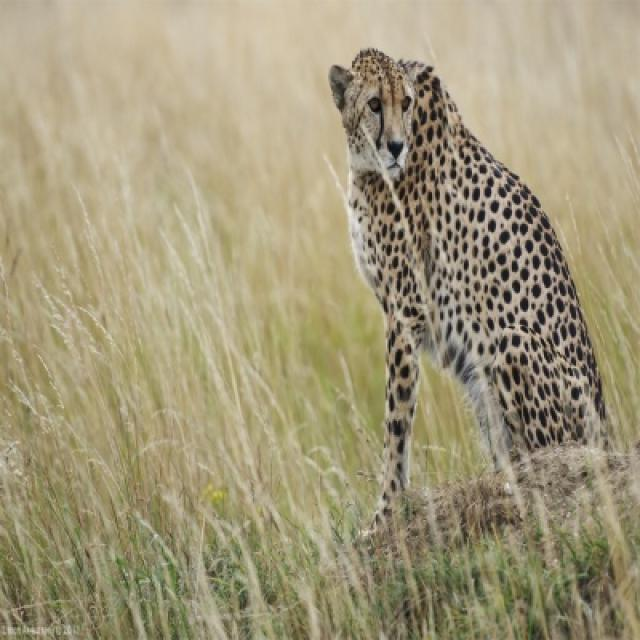Cheetah: (333, 48, 615, 543)
